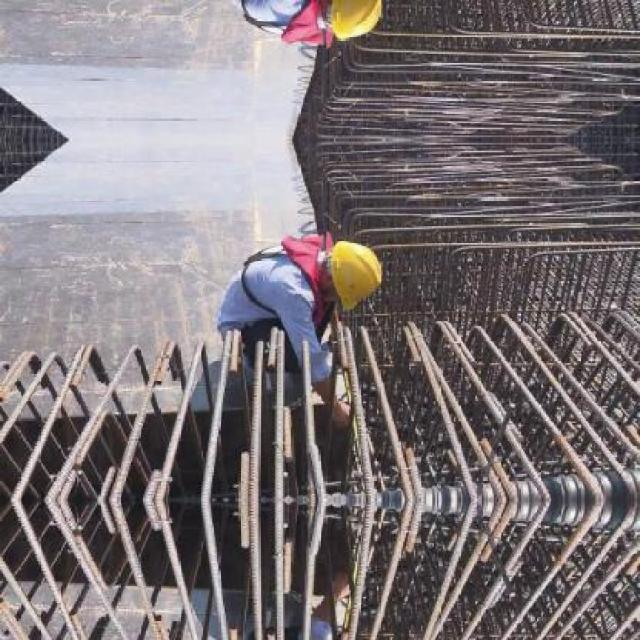Reflective-Jacket: (208, 232, 337, 350)
Safety-Helmet: (318, 234, 392, 321)
